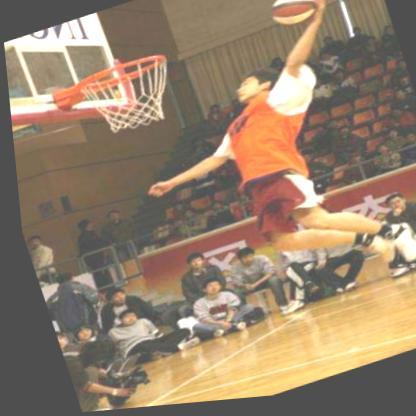basketball: (265, 0, 320, 36)
rim: (73, 52, 185, 144)
